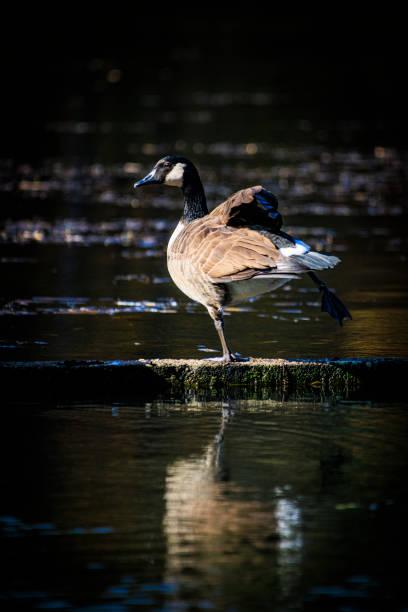Canadian-Goose: (129, 148, 359, 365)
